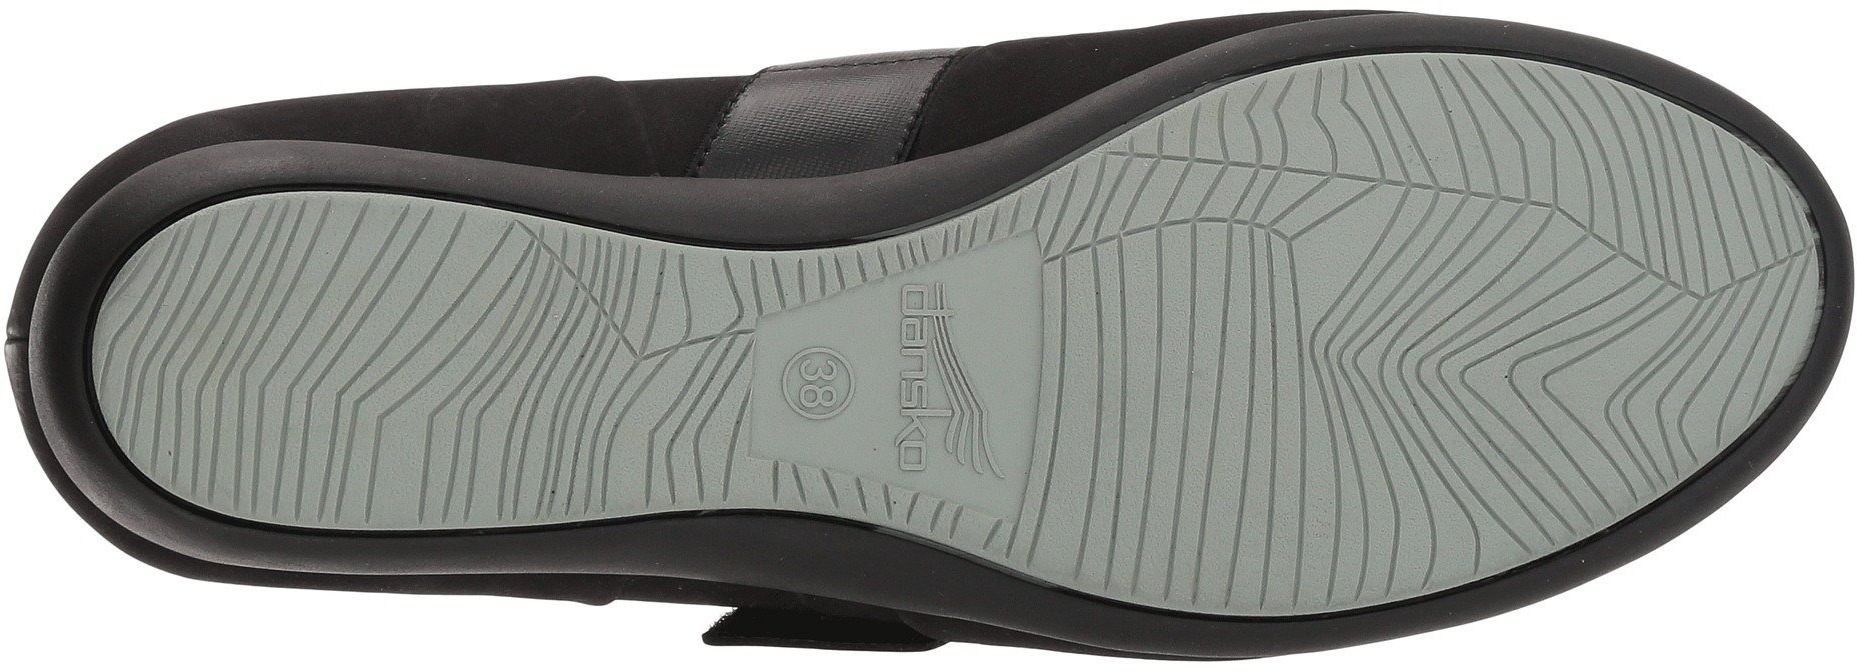chevron: (1290, 188, 1647, 524), (507, 260, 757, 503), (1638, 233, 1803, 384), (1450, 321, 1598, 486)
circle: (764, 337, 870, 436)
line: (1028, 260, 1294, 508), (507, 260, 757, 503), (1638, 233, 1803, 384), (1416, 56, 1573, 209), (223, 232, 372, 388), (1306, 207, 1448, 352), (889, 277, 957, 348)
other: (959, 256, 1039, 331)
quad: (883, 407, 953, 476), (889, 277, 957, 348)
text: (764, 337, 870, 436), (883, 407, 953, 476), (889, 277, 957, 348), (886, 347, 956, 407), (790, 357, 849, 411)
